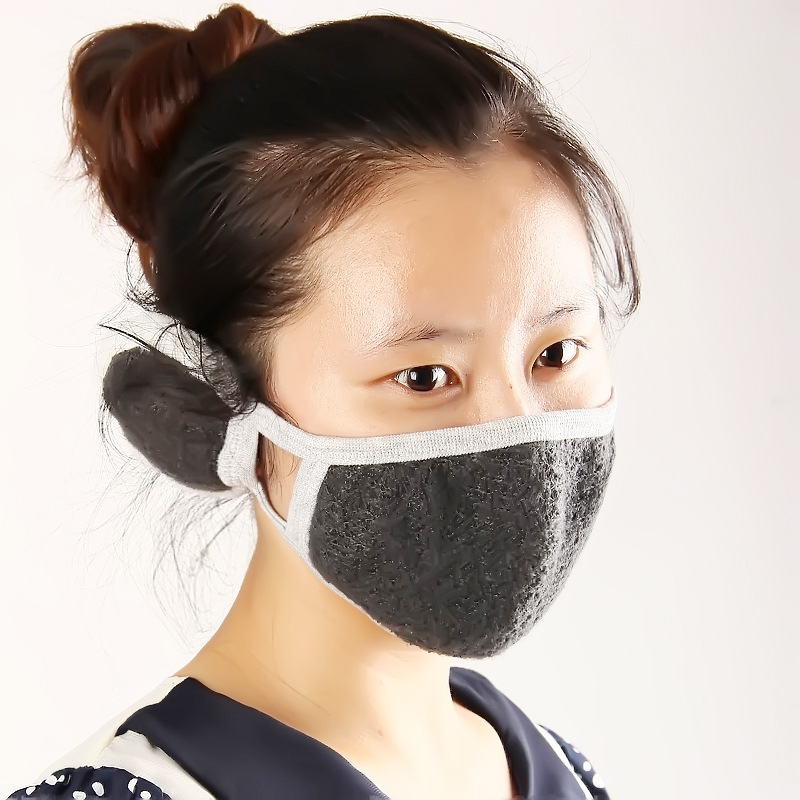face_mask: (273, 178, 607, 629)
